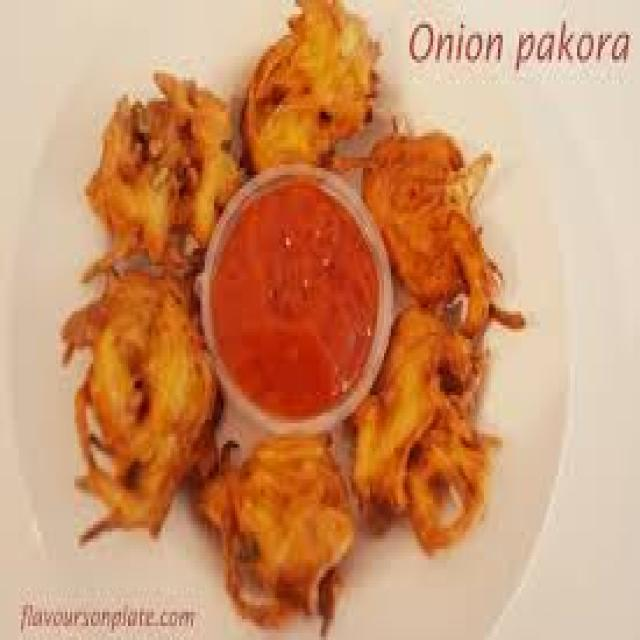BAJI: (84, 0, 532, 627), (69, 263, 225, 557)
